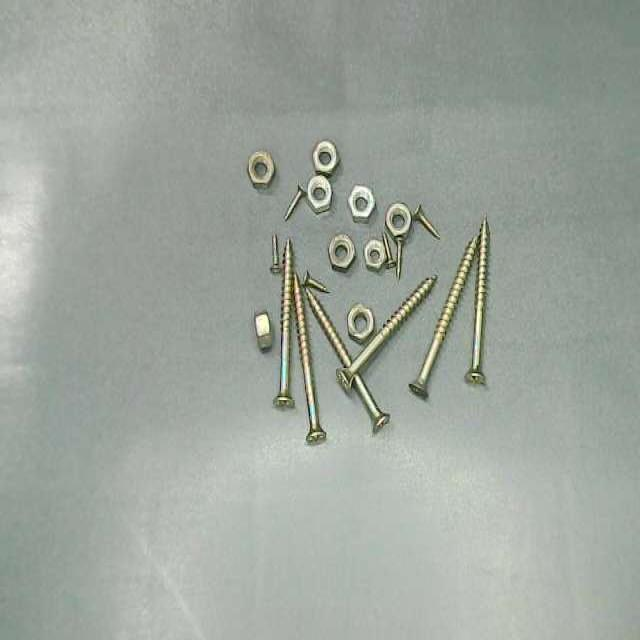Parafuso: (336, 276, 436, 390), (409, 236, 476, 397), (293, 274, 325, 443), (465, 218, 489, 383), (274, 239, 294, 407), (306, 290, 350, 366), (413, 204, 439, 238), (284, 186, 305, 221), (302, 271, 329, 293), (382, 231, 395, 269), (270, 235, 280, 273), (396, 239, 402, 278)
Porca: (347, 304, 374, 343), (348, 184, 375, 222), (328, 234, 355, 271), (247, 151, 274, 187), (312, 140, 339, 175), (307, 175, 331, 214), (385, 203, 411, 238), (254, 311, 272, 350), (364, 239, 385, 271)
